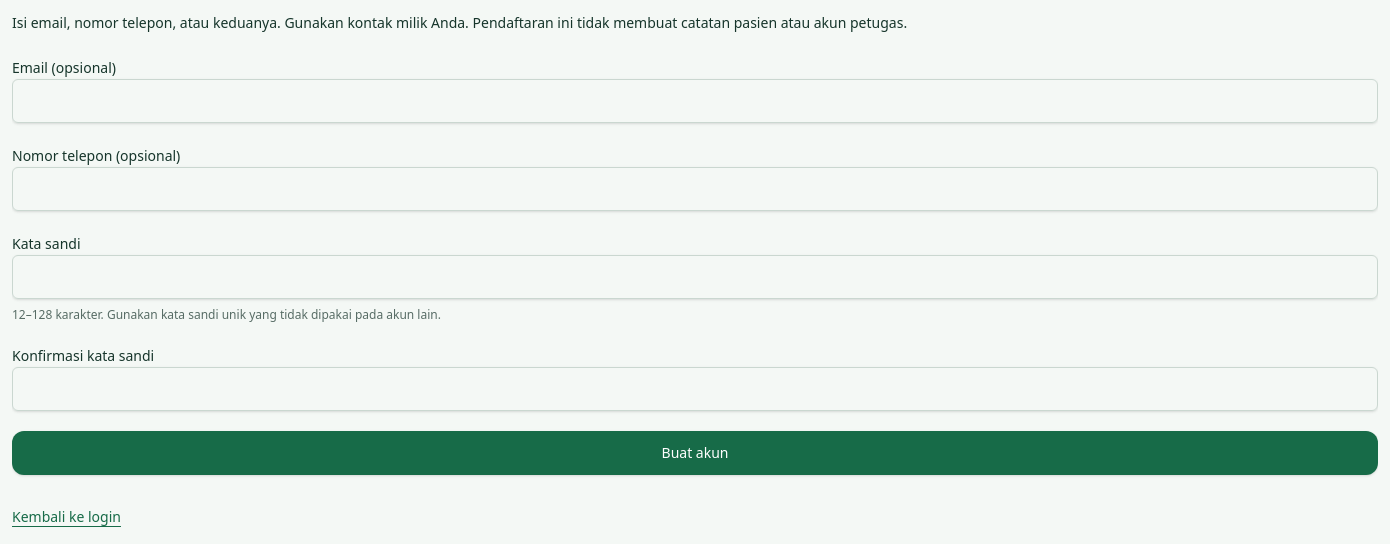
Test: submits only contact and password with CSRF, discards development secrets, and never logs in or grants a role
Type "person@example.invalid" into the field labelled "Email (opsional)". click: (695, 101)
box: x1=12 y1=79 x2=1378 y2=123
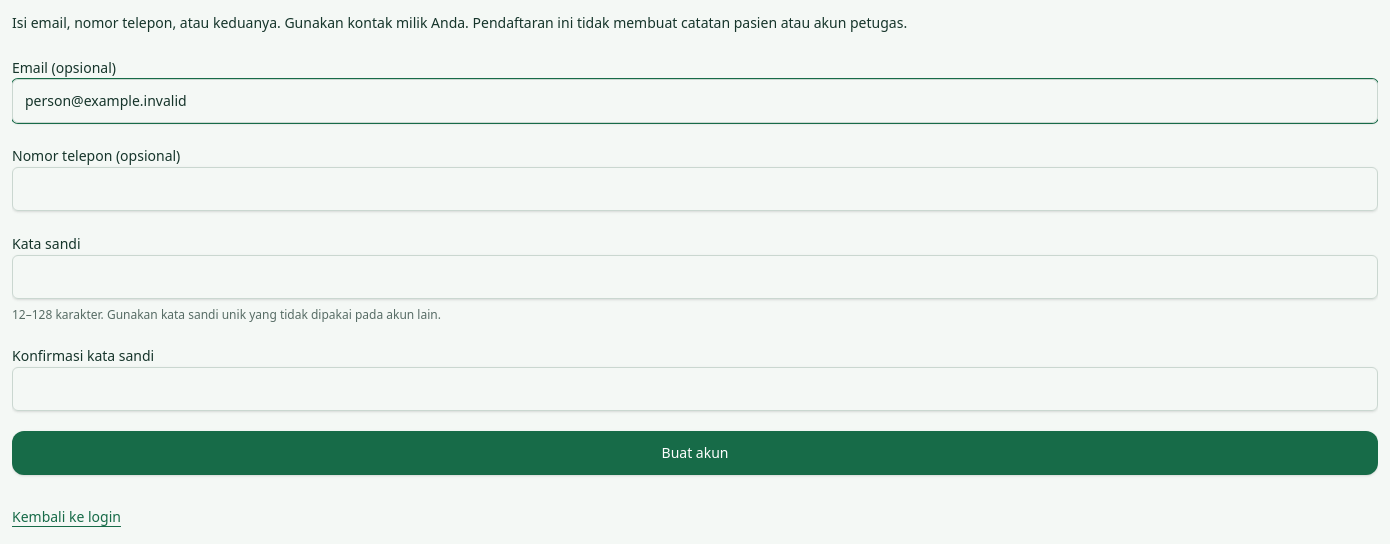
Type "Fictional unique pass 123!" into the password field labelled "Kata sandi". click: (695, 277)
box: x1=12 y1=255 x2=1378 y2=299
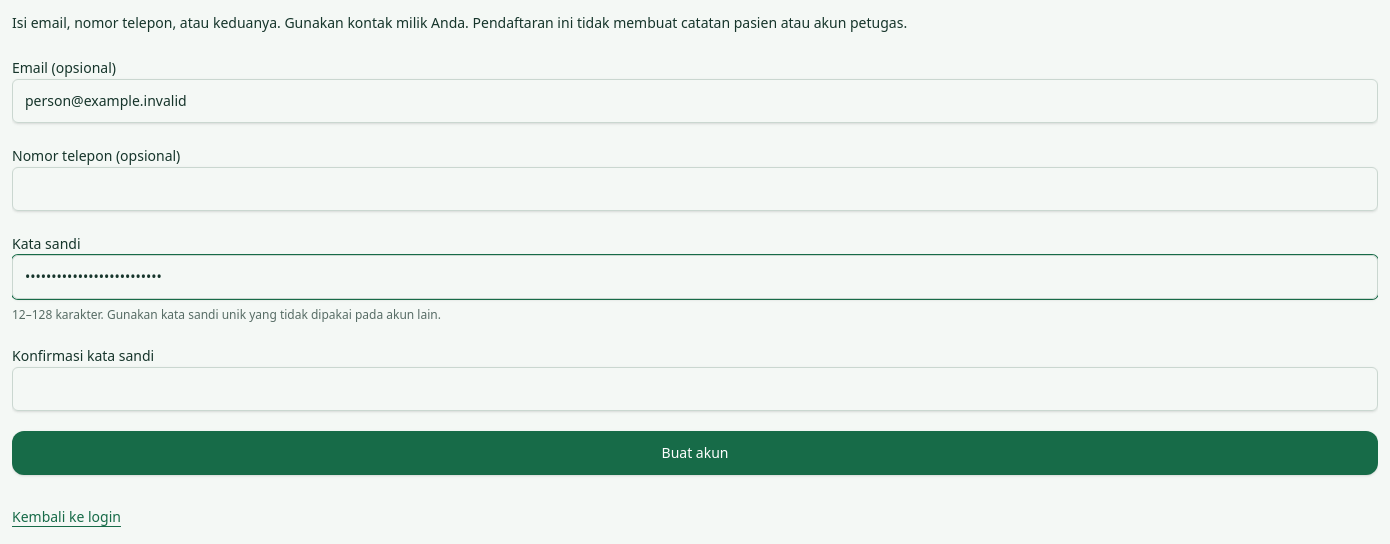
Type "Fictional unique pass 123!" into the password field labelled "Konfirmasi kata sandi". click: (695, 389)
box: x1=12 y1=367 x2=1378 y2=411
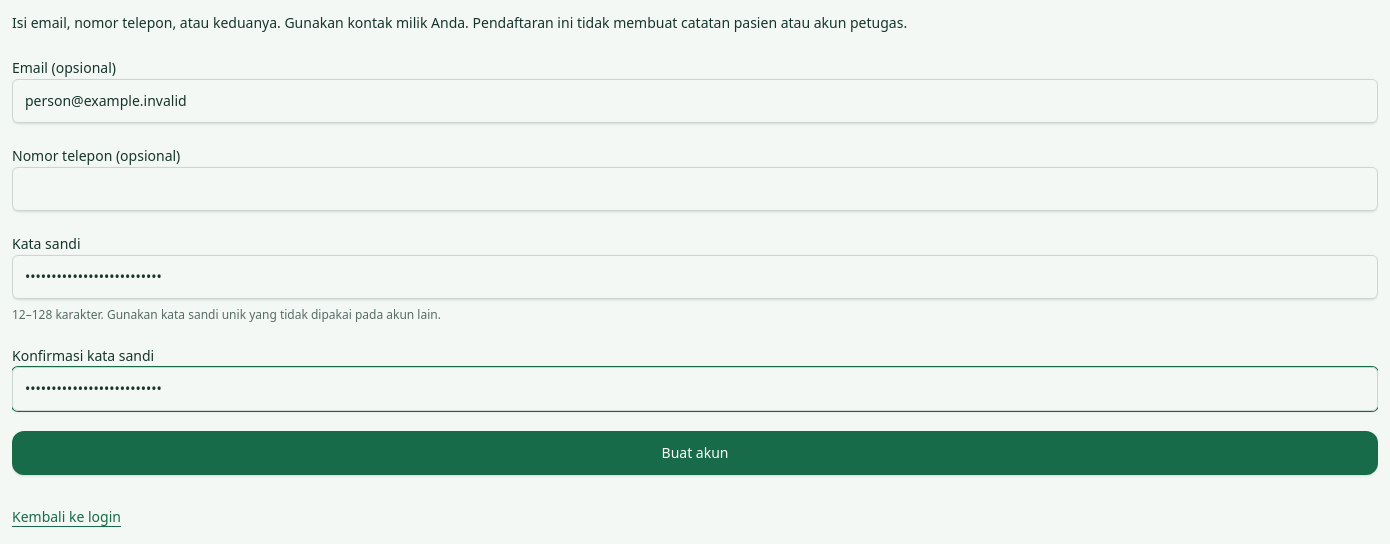
Click the button "Buat akun". click: (695, 453)
box: x1=12 y1=431 x2=1378 y2=475
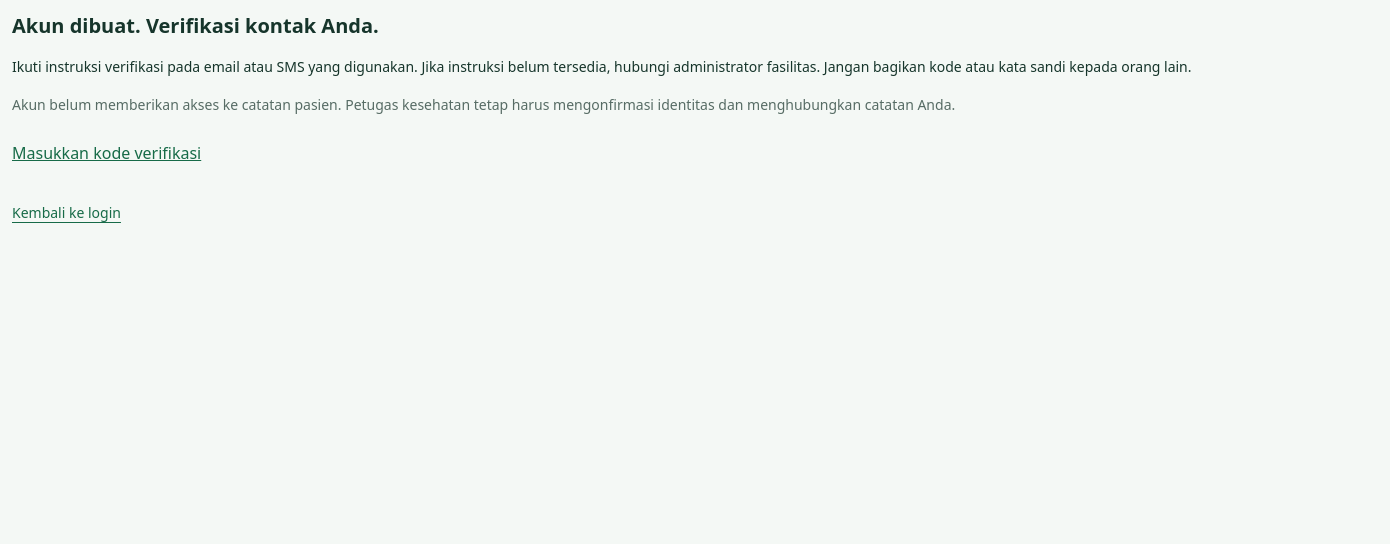
Check: the message shows "Akun dibuat", box x1=12 y1=12 x2=379 y2=39
